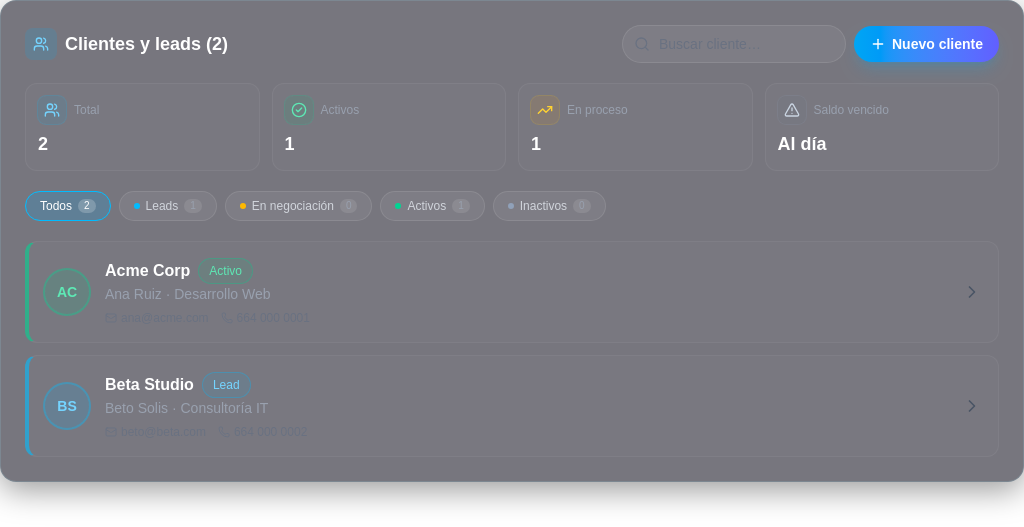
Test case: ClientsSection › filters by status
Click the button "Leads 1".
click(168, 206)  # box [119,191,217,221]
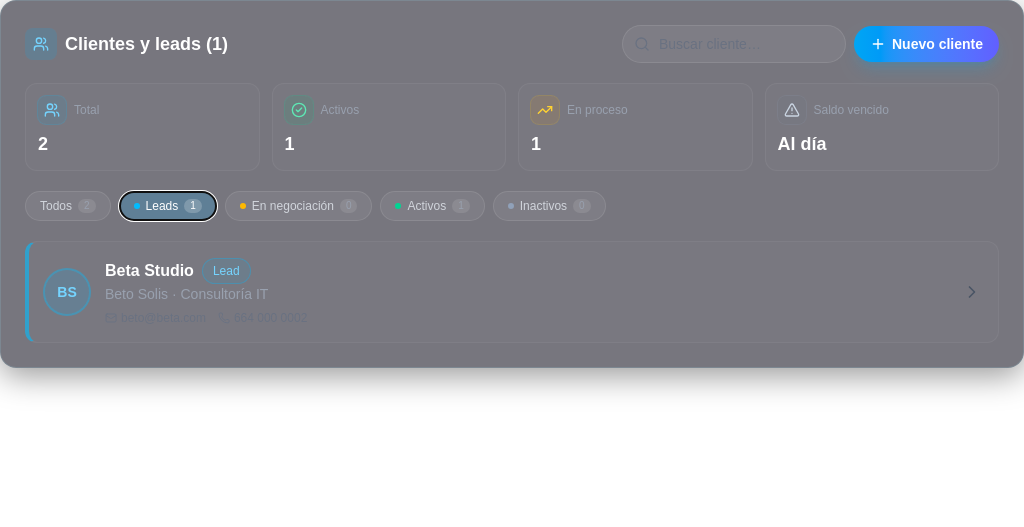
expect the text "Beta Studio" is shown: met, box [105,259,194,283]
expect the button "Acme Corp" is gone: met
